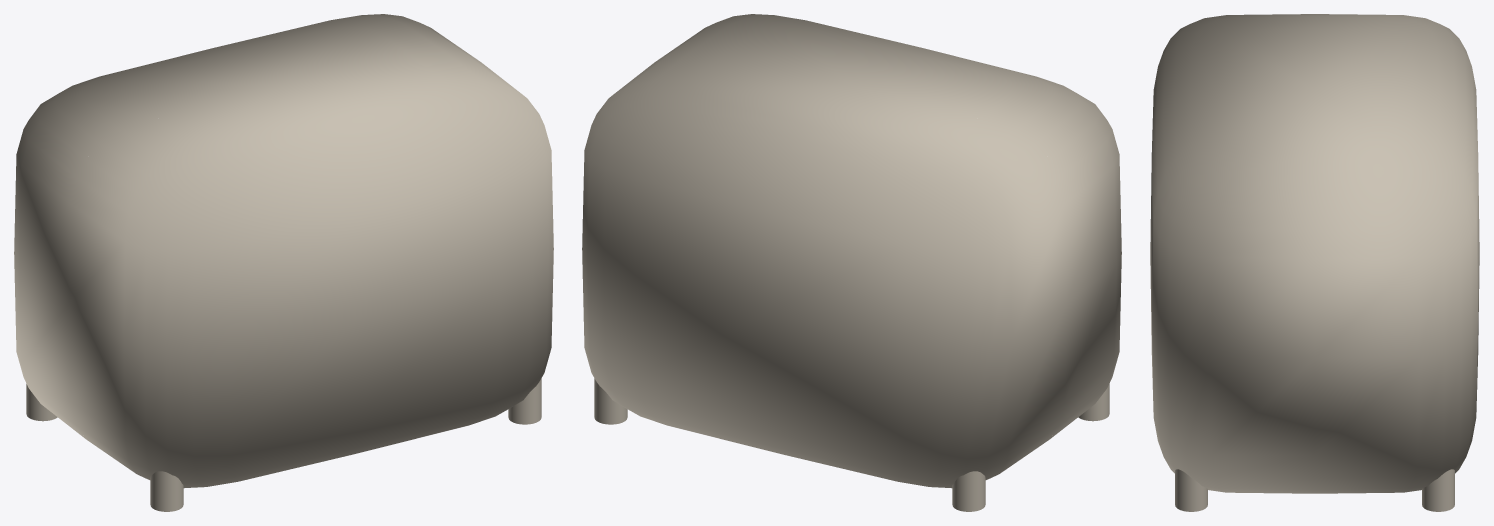
File: ikea-strandmon-39299051-g2-proxy.glb
3 views of the same model, side by side, from view 1: azimuth 30°, elevation 25°; view 2: azimuth 150°, elevation 25°; view 3: azimuth 270°, elevation 25° (orthographic).
Visible parts, largest first — view 1: proxy_body, leg (×2); view 2: proxy_body, leg (×2); view 3: proxy_body, leg (×2).
Part boxes in pixels (box(x1,y1,x2,y2)): proxy_body: box(14, 14, 553, 488); leg (×2): box(150, 378, 541, 511); proxy_body: box(582, 14, 1121, 488); leg (×2): box(594, 378, 985, 511); proxy_body: box(1150, 14, 1479, 493); leg (×2): box(1175, 469, 1454, 511).
Bounding box in the file's own units: 0.6 × 0.44 × 0.4.
